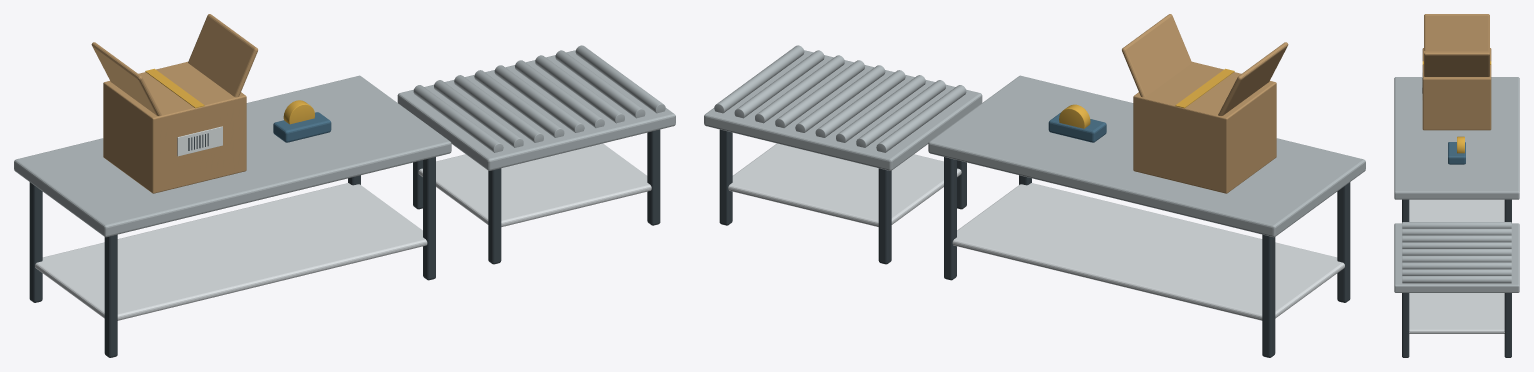
The model's file is packing.glb.
The picture shows the model from 3 angles, left to right: view 1: azimuth 30°, elevation 25°; view 2: azimuth 150°, elevation 25°; view 3: azimuth 270°, elevation 25°; orthographic projection. The views are drawn at different scales.
Visible parts, largest first — view 1: PACK | bench shelf, PACK | bench top, Carton, PACK | conveyor shelf, PACK | conveyor top, PACK | open flap.001, PACK | bench leg, PACK | open flap, PACK | bench leg.001, PACK | bench leg.002, PACK | conveyor leg, PACK | conveyor leg.002 (+13 smaller); view 2: PACK | bench top, PACK | bench shelf, Carton, PACK | conveyor shelf, PACK | conveyor top, PACK | open flap.001, PACK | bench leg.001, PACK | open flap, PACK | bench leg, PACK | bench leg.003, PACK | conveyor leg.001, PACK | conveyor leg.003 (+12 smaller); view 3: PACK | bench top, Carton, PACK | conveyor shelf, PACK | open flap, PACK | conveyor top, PACK | bench shelf, PACK | open flap.001, PACK | conveyor roller.001, PACK | conveyor roller.002, PACK | conveyor roller.005, PACK | conveyor roller.006, PACK | conveyor roller.008 (+10 smaller).
Part boxes in pixels (x1,y1,x2,y2): PACK | bench shelf: (35, 183, 427, 320); PACK | bench top: (14, 75, 451, 237); Carton: (103, 61, 246, 193); PACK | conveyor shelf: (418, 143, 651, 226); PACK | conveyor top: (397, 50, 675, 170); PACK | open flap.001: (188, 14, 257, 97); PACK | bench leg: (104, 234, 117, 357); PACK | open flap: (91, 42, 161, 115); PACK | bench leg.001: (29, 182, 42, 302); PACK | bench leg.002: (423, 157, 435, 280); PACK | conveyor leg: (488, 168, 501, 264); PACK | conveyor leg.002: (647, 129, 660, 225); PACK | bench top: (928, 75, 1365, 237); PACK | bench shelf: (952, 183, 1344, 320); Carton: (1133, 61, 1276, 193); PACK | conveyor shelf: (728, 143, 961, 226); PACK | conveyor top: (704, 50, 982, 170); PACK | open flap.001: (1122, 14, 1191, 97); PACK | bench leg.001: (1262, 234, 1275, 357); PACK | open flap: (1218, 42, 1288, 115); PACK | bench leg: (1337, 182, 1350, 302); PACK | bench leg.003: (944, 157, 956, 280); PACK | conveyor leg.001: (878, 168, 891, 264); PACK | conveyor leg.003: (719, 129, 732, 225); PACK | bench top: (1394, 77, 1519, 199); Carton: (1422, 48, 1491, 130); PACK | conveyor shelf: (1409, 293, 1504, 333); PACK | open flap: (1424, 14, 1489, 51); PACK | conveyor top: (1394, 223, 1519, 292); PACK | bench shelf: (1409, 199, 1504, 221); PACK | open flap.001: (1424, 52, 1489, 76); PACK | conveyor roller.001: (1402, 228, 1511, 235); PACK | conveyor roller.002: (1402, 235, 1511, 242); PACK | conveyor roller.005: (1402, 255, 1511, 262); PACK | conveyor roller.006: (1402, 262, 1511, 269); PACK | conveyor roller.008: (1402, 276, 1511, 283).
Bounding box in the file's own units: 3.95 × 1.71 × 1.1.
